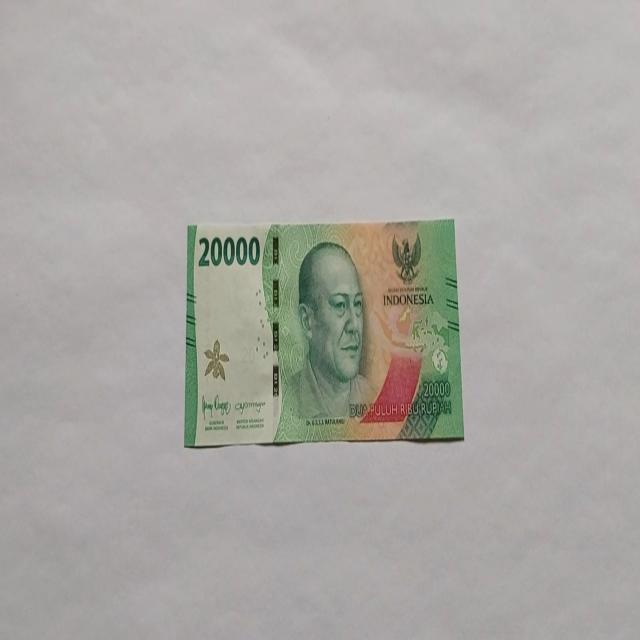dua puluh ribu rupiah: (183, 218, 464, 448), (273, 239, 379, 442)
